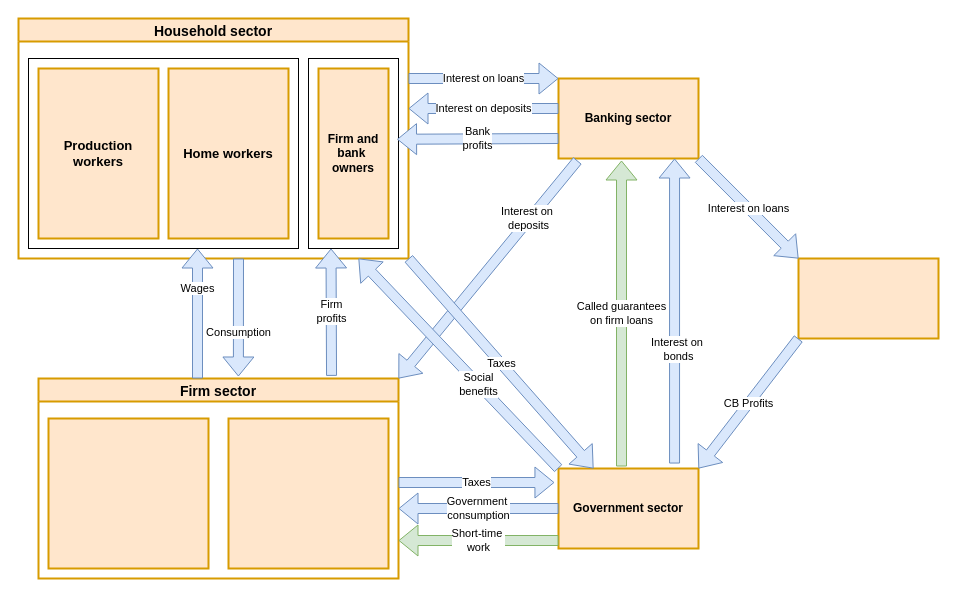
This 956x596 diagram has some shape labels left out. Each missing label, with the centre of its shape:
Central bank: the point at 868,298
Essential firms: the point at 128,493
Non-essential firms: the point at 308,493
